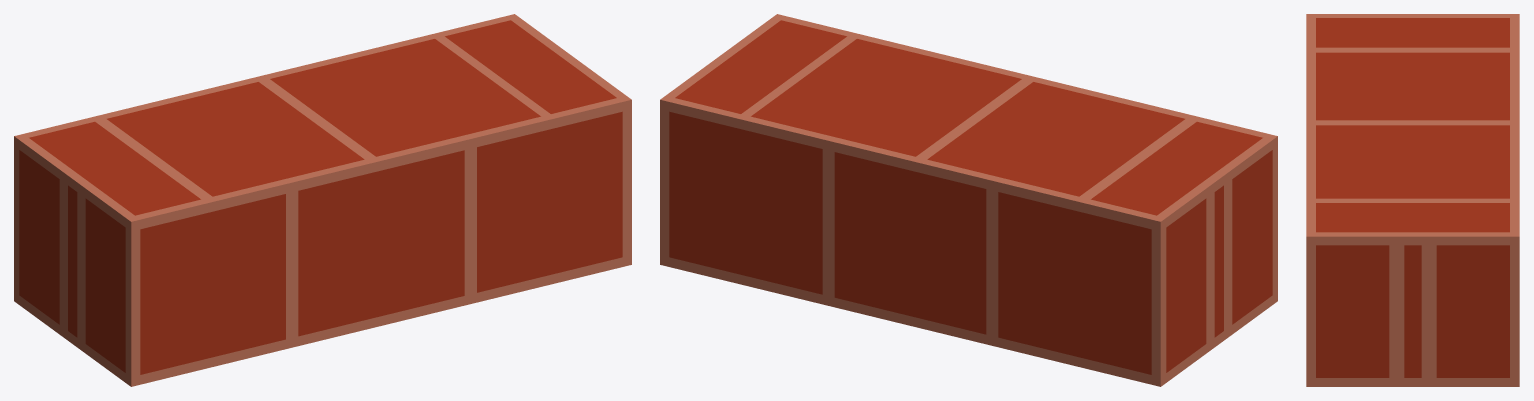
The model's file is cargo container3.FBX.
The picture shows the model from 3 angles, left to right: view 1: azimuth 30°, elevation 25°; view 2: azimuth 150°, elevation 25°; view 3: azimuth 270°, elevation 25°; orthographic projection. The views are drawn at different scales.
Parts seen in each view (by area): view 1: cargo container3; view 2: cargo container3; view 3: cargo container3.
Boxes of the visible parts, x1,y1,x2,y2 form: cargo container3: [14, 14, 631, 386]; cargo container3: [660, 14, 1277, 386]; cargo container3: [1306, 14, 1519, 386].
Bounding box in the file's own units: 5.88 × 1.85 × 2.38.
